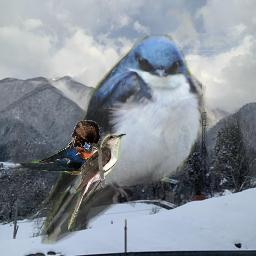Crow: (68, 120, 102, 151)
Cuckoo: (68, 133, 126, 230)
Swallow: (35, 33, 206, 245), (10, 139, 100, 175)
